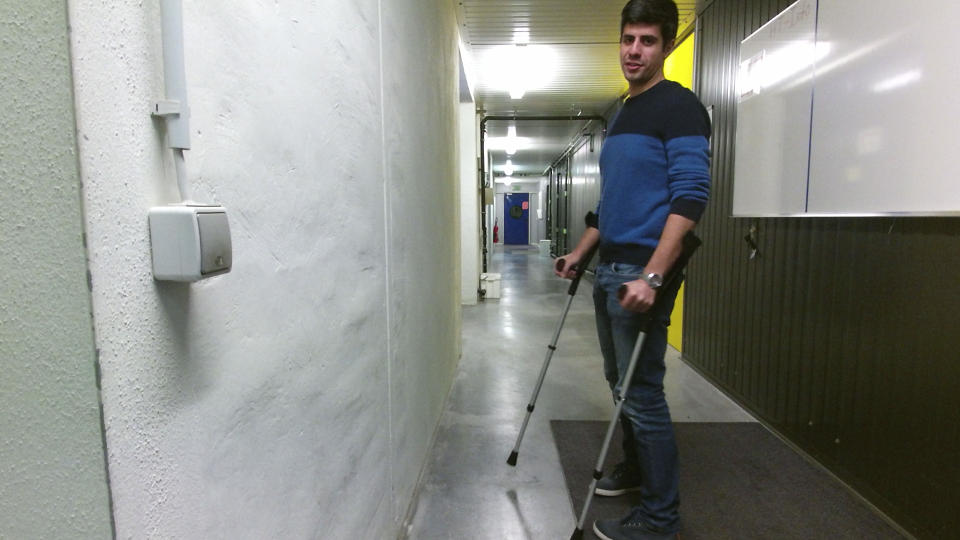crutches: (497, 1, 716, 540)
